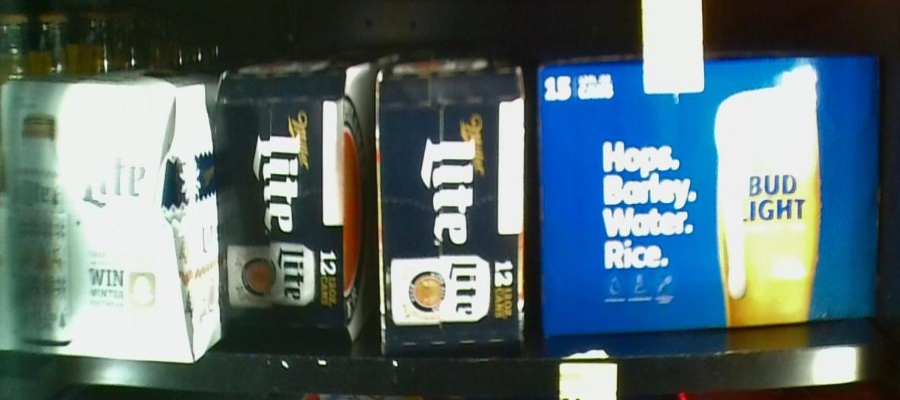bottle: (536, 60, 887, 325), (1, 76, 222, 355), (222, 69, 374, 360), (376, 65, 529, 351)
